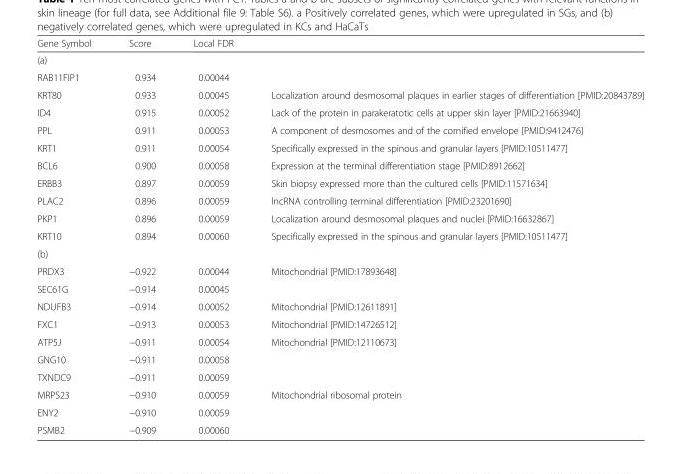table: (36, 37, 643, 435)
table column: (251, 37, 643, 435), (174, 37, 251, 435), (36, 37, 109, 435), (109, 37, 174, 435)
table column header: (36, 37, 643, 51)
table projected row header: (36, 51, 643, 68), (36, 244, 643, 261)
table row: (36, 85, 643, 103), (36, 103, 643, 121), (36, 138, 643, 156), (36, 156, 643, 174), (36, 191, 643, 209), (36, 226, 643, 244), (36, 261, 643, 279), (36, 279, 643, 297), (36, 314, 643, 332), (36, 332, 643, 350), (36, 367, 643, 385), (36, 385, 643, 403), (36, 51, 643, 68), (36, 68, 643, 85), (36, 121, 643, 138), (36, 174, 643, 191), (36, 209, 643, 226), (36, 244, 643, 261), (36, 297, 643, 314), (36, 350, 643, 367), (36, 403, 643, 420), (36, 420, 643, 435), (36, 37, 643, 51)
